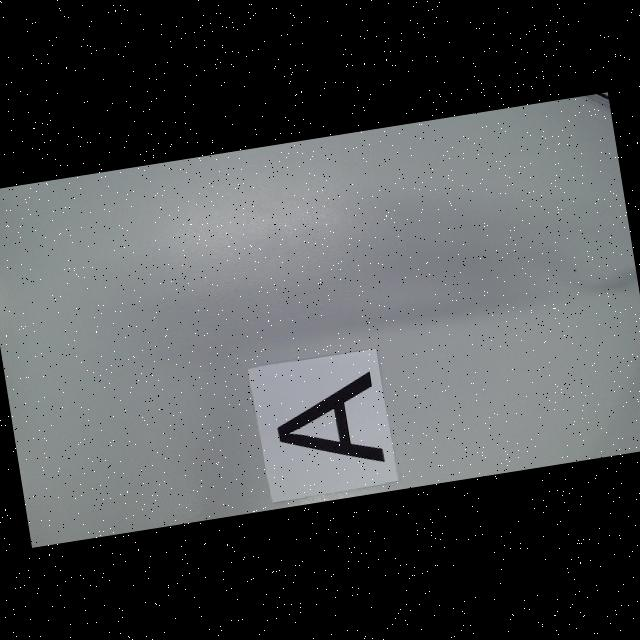FAKE: (272, 370, 386, 478)
